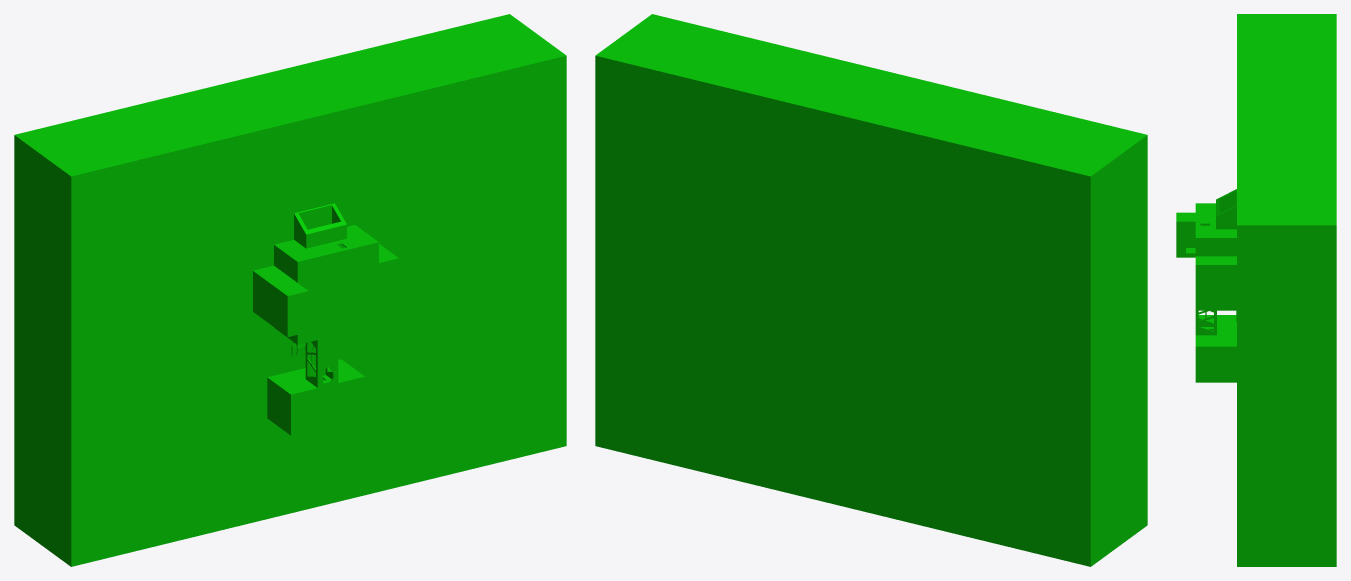
File: debug_0002_col.obj
3 renders of one model, left to right at view 1: azimuth 30°, elevation 25°; view 2: azimuth 150°, elevation 25°; view 3: azimuth 270°, elevation 25°, orthographic. The views are drawn at different scales.
Visible parts, largest first — view 1: COLLIDE.067_Cube.106; view 2: COLLIDE.067_Cube.106; view 3: COLLIDE.067_Cube.106.
Boxes of the visible parts, x1,y1,x2,y2 form: COLLIDE.067_Cube.106: [14, 14, 566, 566]; COLLIDE.067_Cube.106: [595, 14, 1147, 566]; COLLIDE.067_Cube.106: [1176, 14, 1336, 566].
Size of the model in its own units: 2072 by 1560 by 664.
